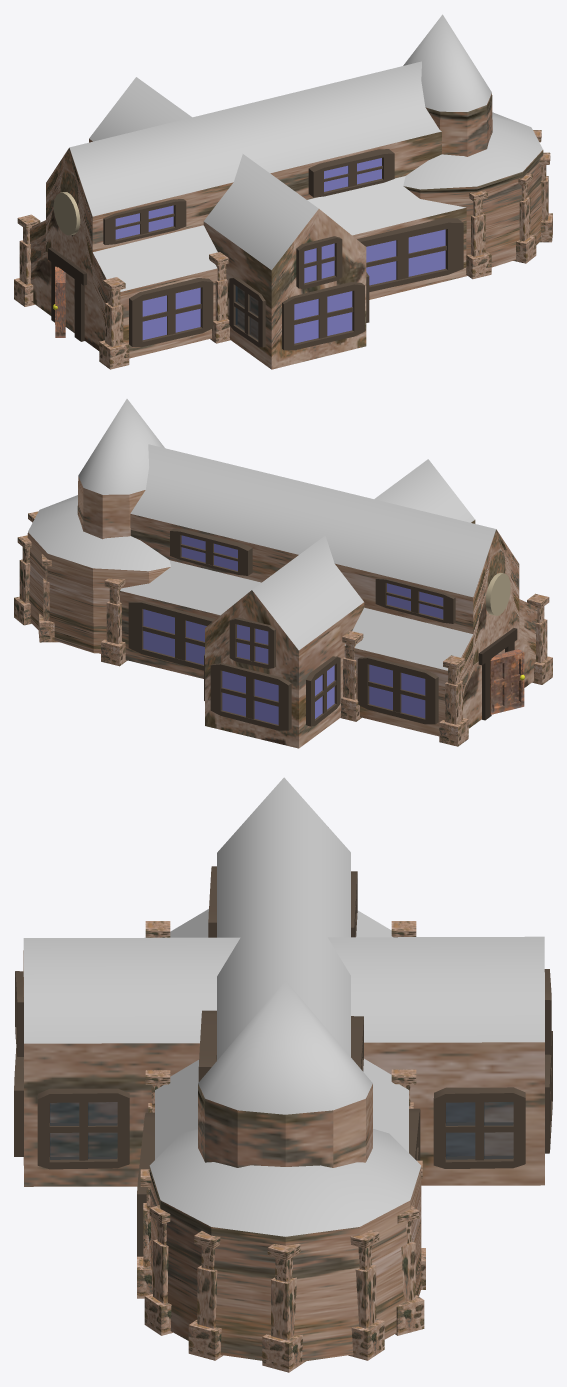
The model's file is big building texture.fbx.
3 renders of one model, top to bottom at view 1: azimuth 30°, elevation 25°; view 2: azimuth 150°, elevation 25°; view 3: azimuth 270°, elevation 25°, orthographic. The views are drawn at different scales.
Visible parts, largest first — view 1: pCube3, pCube2, pCube1, pCube64 (×7), pCylinder2, pCube65 (×7), pCylinder1, pCylinder3, pCube10, pCube71, pCube9, pCube70 (+10 smaller); view 2: pCube3, pCube2, pCube1, pCylinder2, pCube64 (×7), pCube65 (×7), pCylinder1, pCube71, pCylinder3, pCube14, pCube13, pCube46 (+8 smaller); view 3: pCube2, pCylinder2, pCube3, pCylinder1, pCube64 (×7), pCube1, pCube65 (×2), pCube62, pCube61, pCube54, pCube58, pCube57 (+6 smaller).
Part boxes in pixels (<box>): pCube3: <box>46,61,441,284</box>; pCube2: <box>89,77,366,369</box>; pCube1: <box>30,176,467,358</box>; pCube64 (×7): <box>103,149,463,350</box>; pCylinder2: <box>403,112,543,272</box>; pCube65 (×7): <box>115,158,445,343</box>; pCylinder1: <box>403,14,492,156</box>; pCylinder3: <box>53,192,80,235</box>; pCube10: <box>105,302,123,346</box>; pCube71: <box>55,266,65,337</box>; pCube9: <box>99,340,129,369</box>; pCube70: <box>74,275,84,341</box>; pCube3: <box>130,444,519,664</box>; pCube2: <box>205,459,475,748</box>; pCube1: <box>100,560,537,736</box>; pCylinder2: <box>27,495,170,653</box>; pCube64 (×7): <box>128,528,455,730</box>; pCube65 (×7): <box>143,535,443,724</box>; pCylinder1: <box>77,399,164,539</box>; pCube71: <box>490,649,524,714</box>; pCylinder3: <box>485,572,510,615</box>; pCube14: <box>445,680,462,724</box>; pCube13: <box>439,718,468,746</box>; pCube46: <box>106,601,121,643</box>; pCube2: <box>23,936,544,1186</box>; pCylinder2: <box>149,1129,421,1361</box>; pCube3: <box>217,777,350,1060</box>; pCylinder1: <box>198,980,372,1167</box>; pCube64 (×7): <box>14,971,552,1256</box>; pCube1: <box>155,909,408,1159</box>; pCube65 (×2): <box>50,1102,513,1159</box>; pCube62: <box>271,1277,296,1340</box>; pCube61: <box>262,1334,305,1372</box>; pCube54: <box>355,1264,376,1328</box>; pCube58: <box>197,1265,217,1328</box>; pCube57: <box>188,1320,223,1360</box>.
Bounding box in the file's own units: 26.3 × 11.37 × 17.06.
